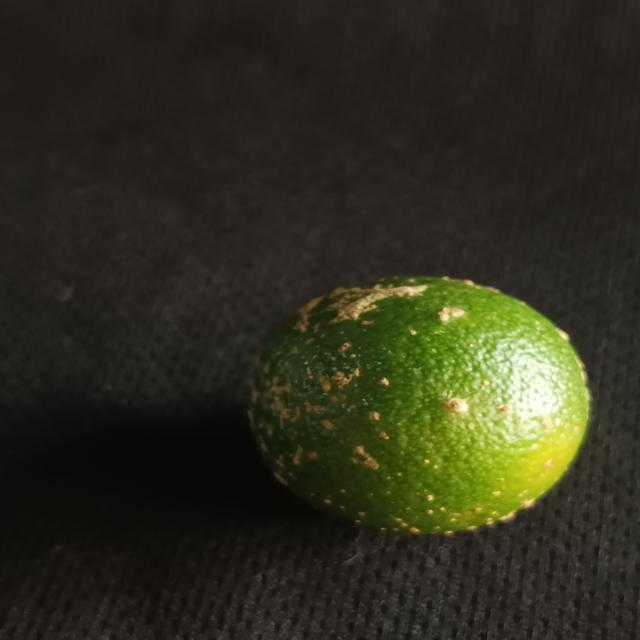scab: (240, 266, 600, 540)
